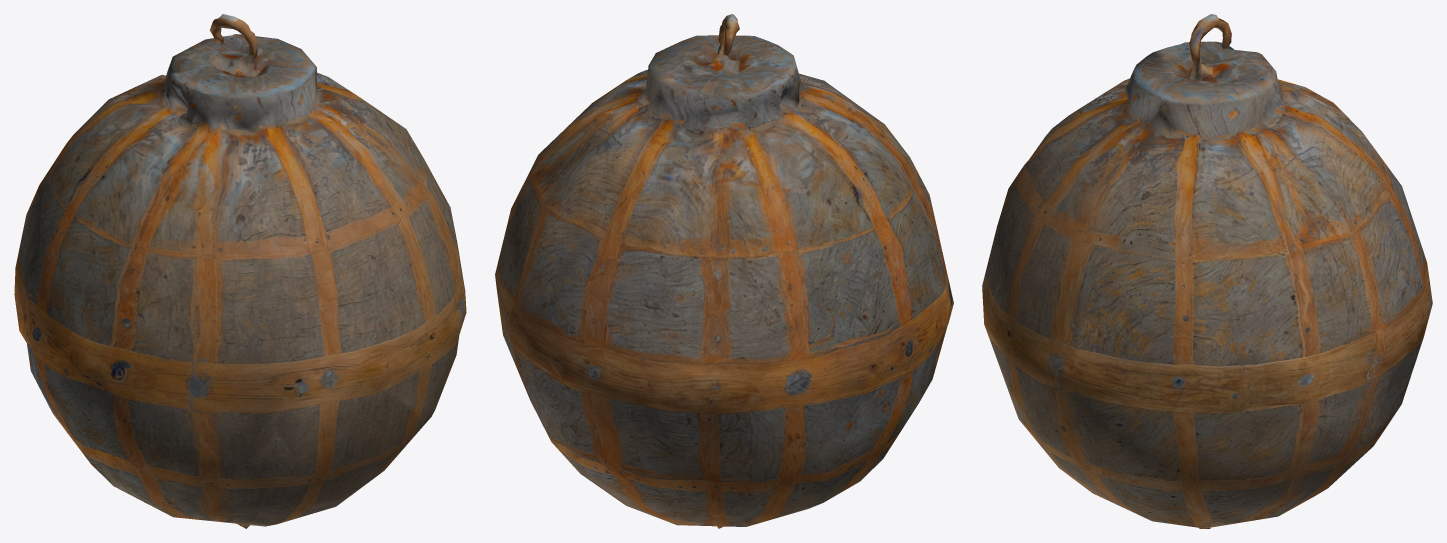
Rendered from Medieval_fantasy_bomb_0721122654_refine.fbx.
3 views of the same model, side by side, from view 1: azimuth 30°, elevation 25°; view 2: azimuth 150°, elevation 25°; view 3: azimuth 270°, elevation 25° (orthographic).
Visible parts, largest first — view 1: Mesh_0; view 2: Mesh_0; view 3: Mesh_0.
Boxes of the visible parts, bbox=[...] form: Mesh_0: bbox=[14, 14, 466, 528]; Mesh_0: bbox=[495, 14, 953, 528]; Mesh_0: bbox=[982, 14, 1432, 528].
Size of the model in its own units: 95.42 by 120 by 96.33.
Materials: 1 (1 with a texture image).
